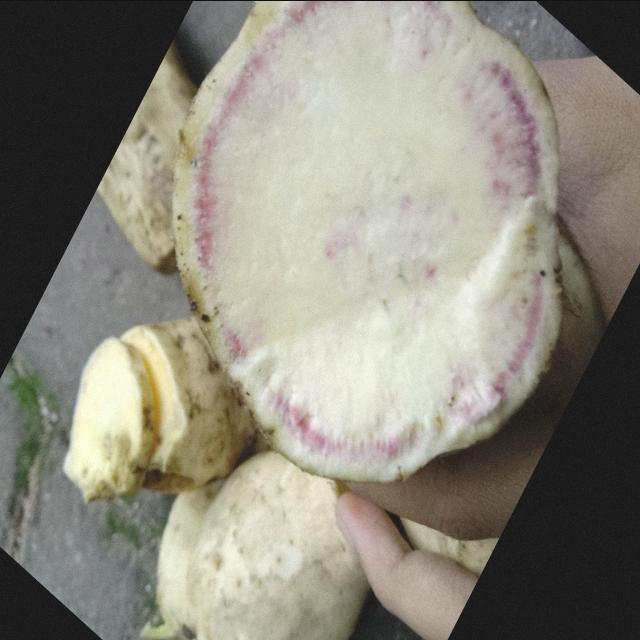Healthy Sweet Potato: (172, 2, 561, 480)
